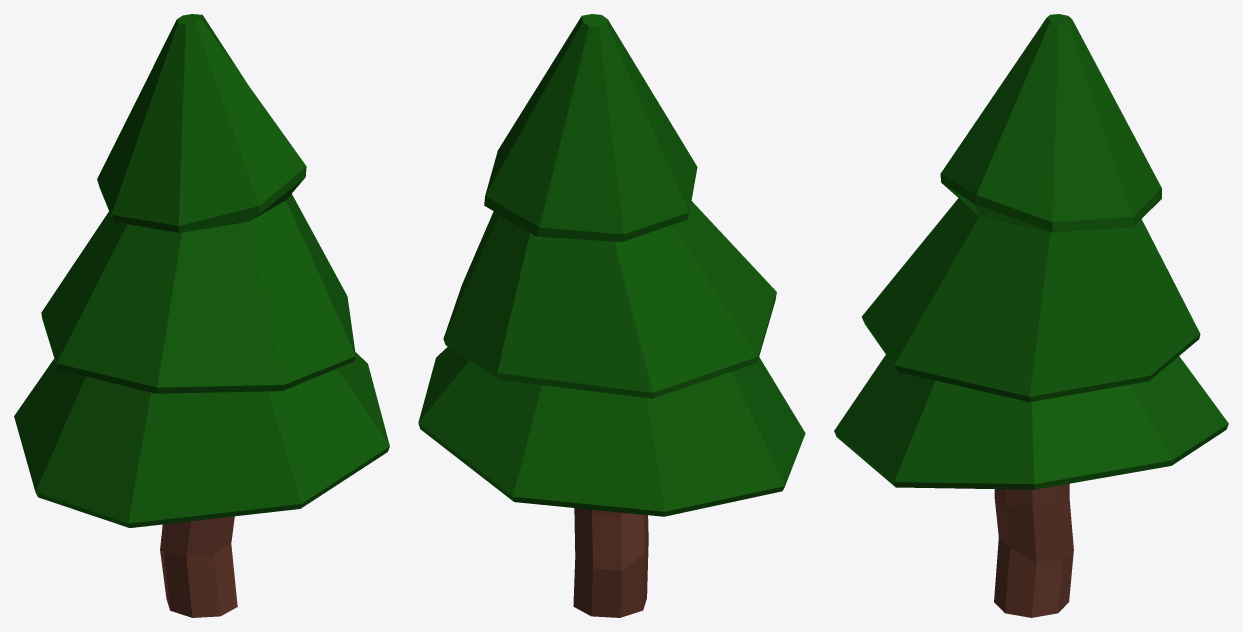
File: Pine_Tree.fbx
3 renders of one model, left to right at view 1: azimuth 30°, elevation 25°; view 2: azimuth 150°, elevation 25°; view 3: azimuth 270°, elevation 25°, orthographic. The views are drawn at different scales.
Visible parts, largest first — view 1: Tree; view 2: Tree; view 3: Tree.
Boxes of the visible parts, x1=… form: Tree: x1=14, y1=14, x2=389, y2=617; Tree: x1=418, y1=14, x2=805, y2=617; Tree: x1=834, y1=14, x2=1228, y2=617.
Bounding box in the file's own units: 34352 × 56267 × 34398.
